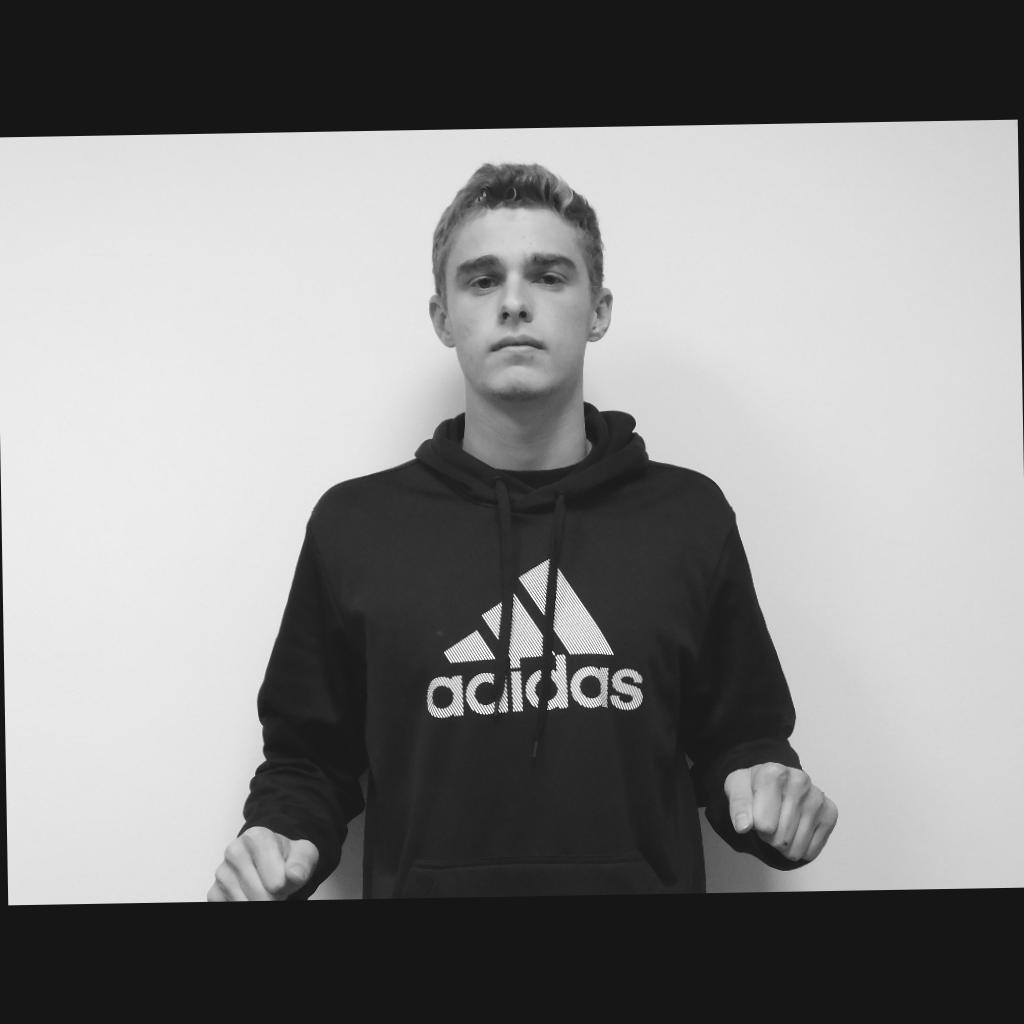can: (205, 761, 838, 901)
